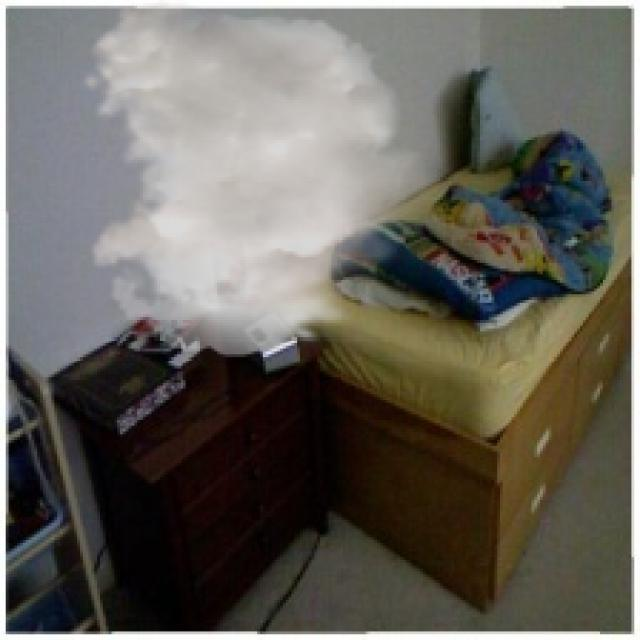Smoke: (80, 0, 449, 357)
